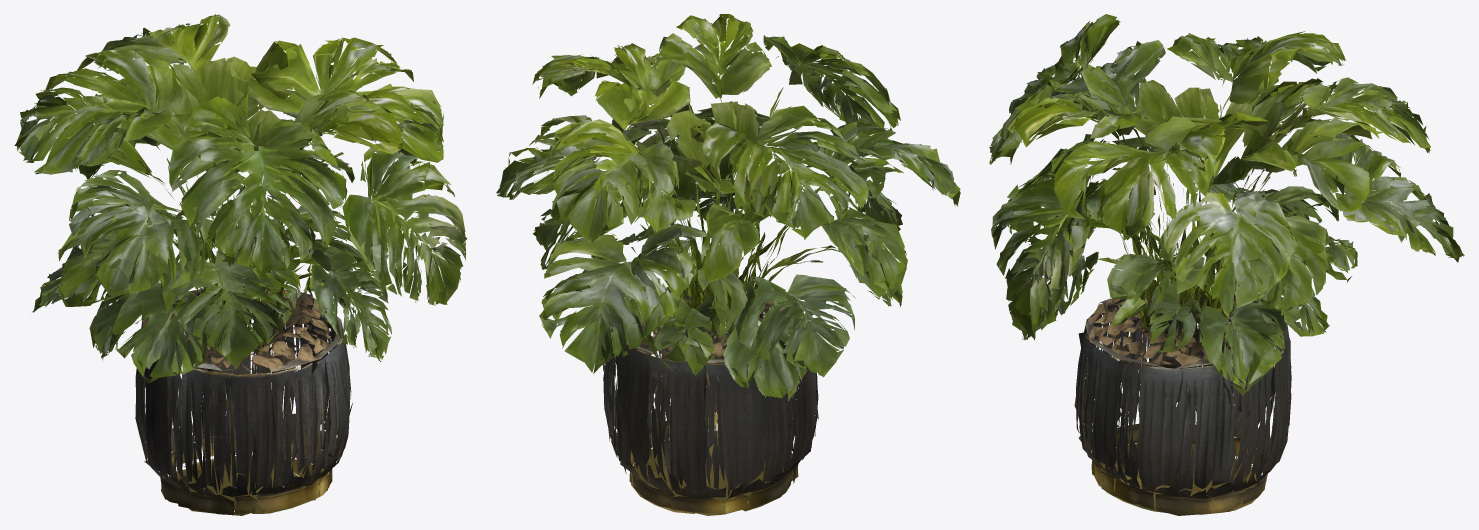
Rendered from plant.glb.
3 views of the same model, side by side, from view 1: azimuth 30°, elevation 25°; view 2: azimuth 150°, elevation 25°; view 3: azimuth 270°, elevation 25° (orthographic).
Visible parts, largest first — view 1: Mesh_0; view 2: Mesh_0; view 3: Mesh_0.
Part boxes in pixels (<box>): Mesh_0: <box>14,14,467,515</box>; Mesh_0: <box>496,14,960,515</box>; Mesh_0: <box>989,14,1464,515</box>.
Bounding box in the file's own units: 0.8088 × 0.8475 × 0.8434.
Materials: 1 (1 with a texture image).
